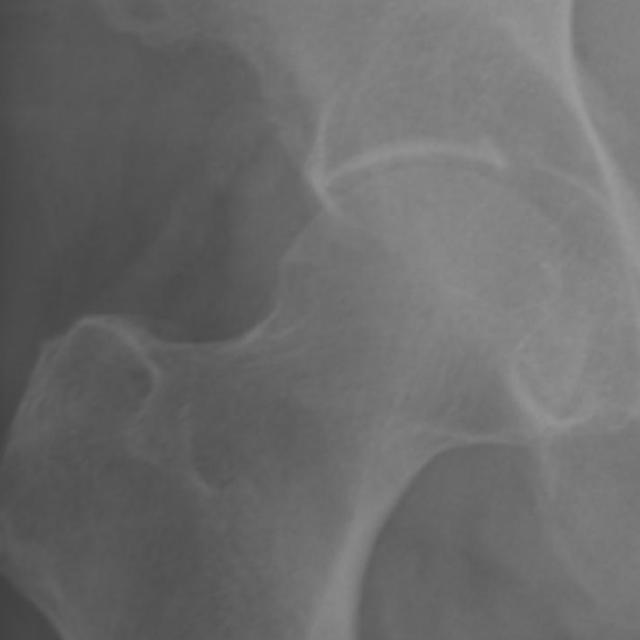Fitted_femural_head: (309, 168, 432, 309)
